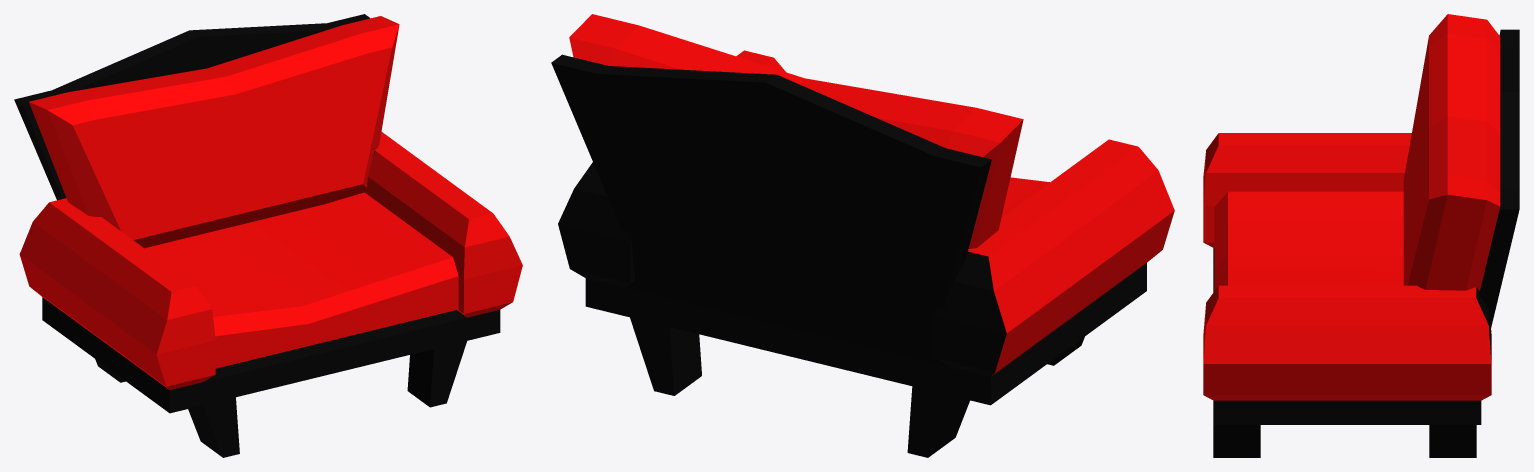
The model's file is ArmChair_2.FBX.
The picture shows the model from 3 angles, left to right: view 1: azimuth 30°, elevation 25°; view 2: azimuth 150°, elevation 25°; view 3: azimuth 270°, elevation 25°; orthographic projection. The views are drawn at different scales.
Parts seen in each view (by area): view 1: Box038; view 2: Box038; view 3: Box038.
Boxes of the visible parts, <box> form: Box038: <box>14,14,522,457</box>; Box038: <box>551,14,1174,457</box>; Box038: <box>1203,14,1519,457</box>.
Bounding box in the file's own units: 185 × 142 × 131.
